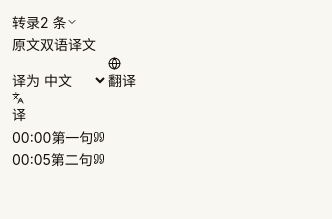
LNTranscriptPanel 转录工具行（Q2） › 窄窗翻译入口收进 popover：提供译按钮，点击后出现语言选择
Click the button with class "ln-tr-translate-pop-trigger" at x=19, y=109, box [12,92,26,127]
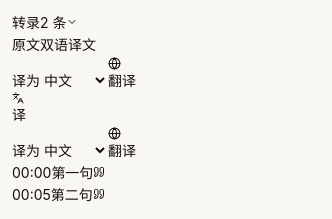
Now the element with class "ln-tr-translate-pop" is shown, box [12,127,136,162]
Now the 2nd dropdown with class "ln-tr-lang-select" is shown, box [40,141,108,160]
